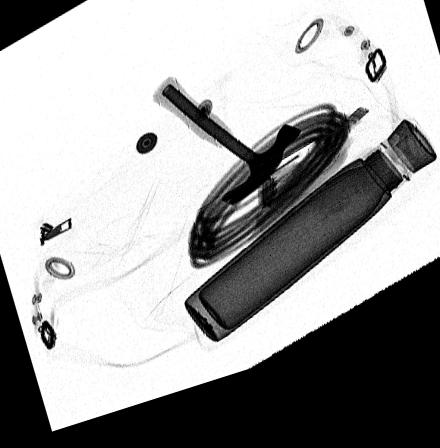Hammer: (152, 87, 302, 222)
